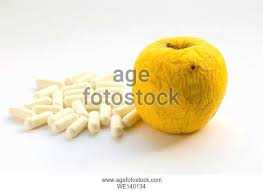damaged_apple: (133, 35, 228, 137)
